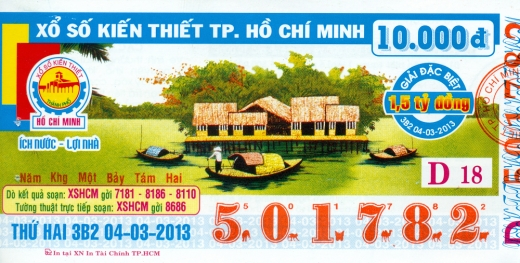serial_zone: (207, 195, 499, 250)
